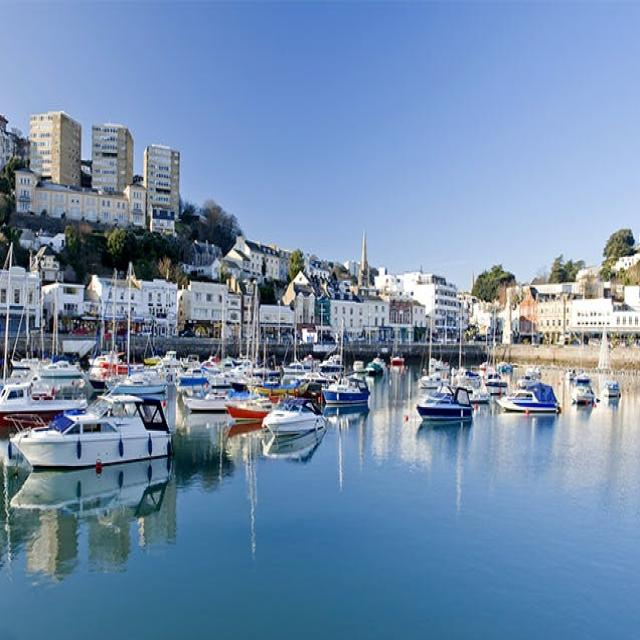houseboat: (22, 382, 178, 485), (258, 384, 331, 444), (420, 385, 485, 427), (511, 371, 568, 415)
